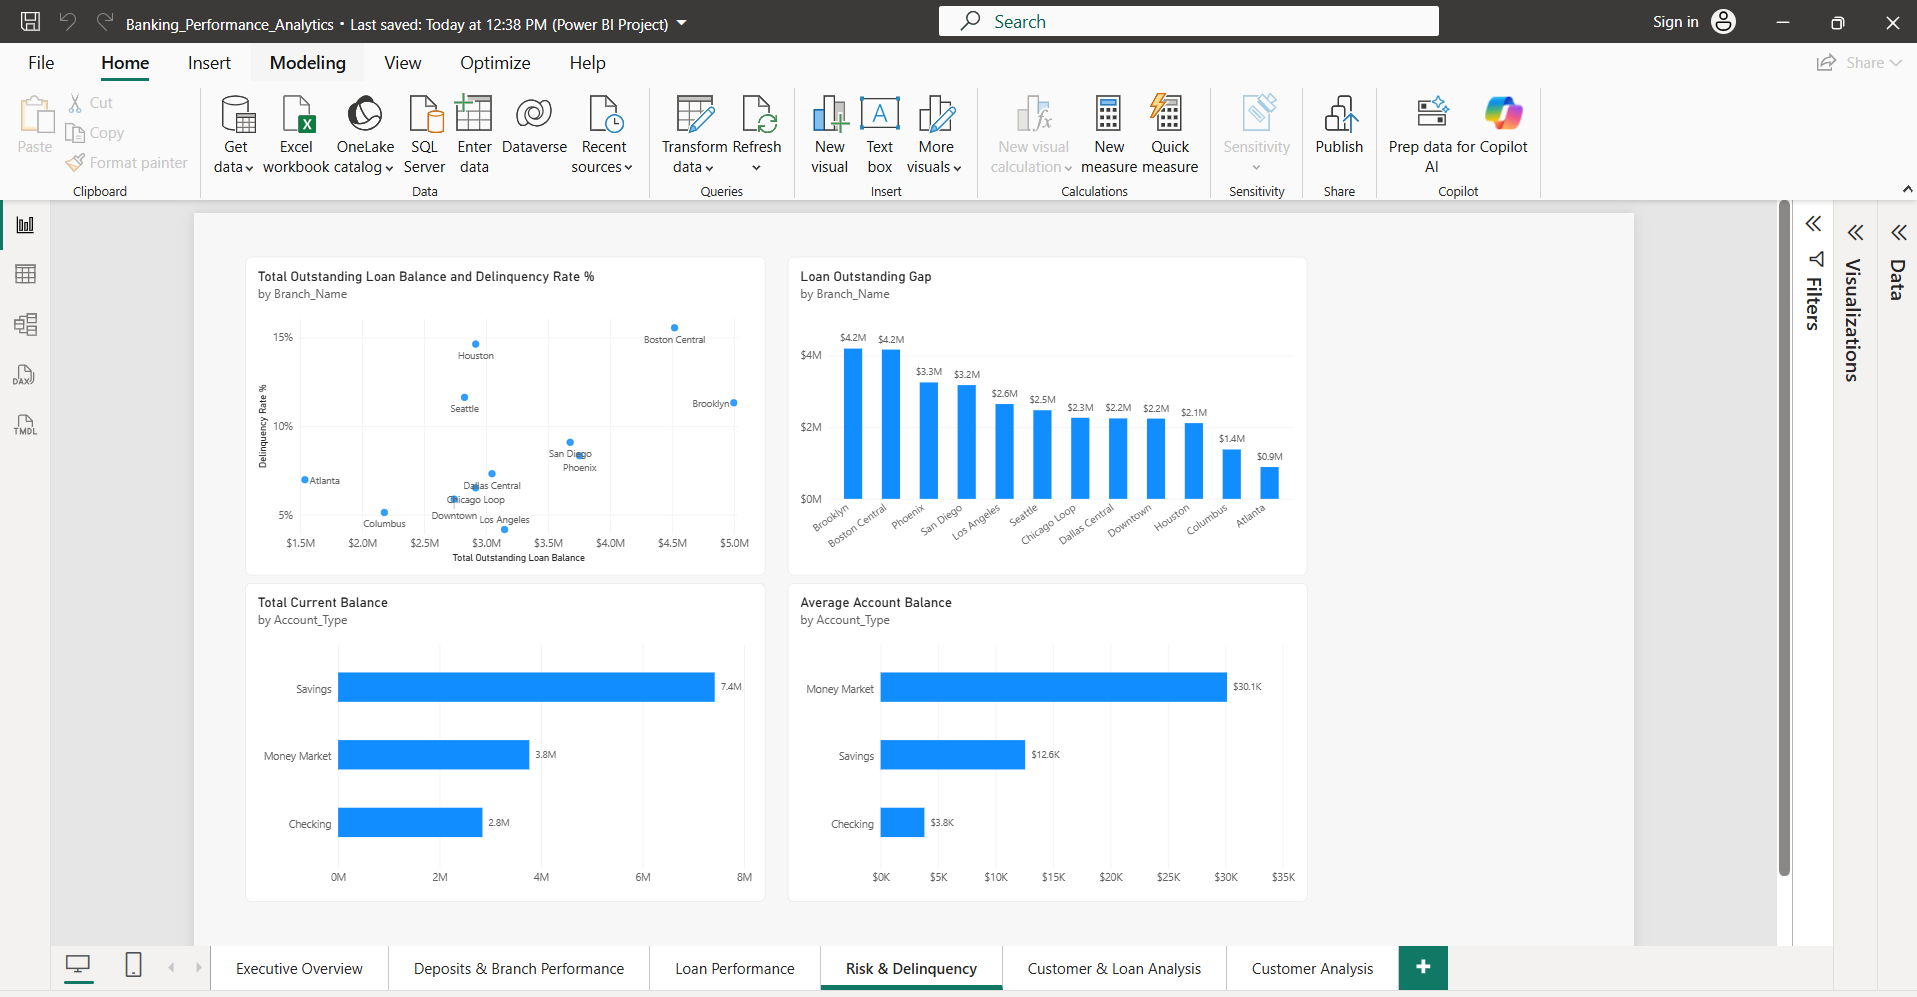

This screenshot's page, from the dashboard's own definition file:
{"tool":"powerbi","page":{"name":"Risk & Delinquency","canvas":[1920,1080],"ordinal":3},"visuals":[{"type":"scatterChart","fields":{"Category":["Branches.Branch_Name"],"X":["Accounts.Total Outstanding Loan Balance"],"Y":["Accounts.Delinquency Rate %"]},"box":[68.3,58.3,693.3,425],"z":0},{"type":"clusteredColumnChart","fields":{"Category":["Branches.Branch_Name"],"Y":["Accounts.Loan Outstanding Gap"]},"box":[791.7,58.3,693,425],"z":1},{"type":"clusteredBarChart","fields":{"Category":["Accounts.Account_Type"],"Y":["Accounts.Total Current Balance"]},"box":[68.3,493.3,693.3,425],"z":2},{"type":"clusteredBarChart","fields":{"Category":["Accounts.Account_Type"],"Y":["Accounts.Average Account Balance"]},"box":[791.7,493.3,693.3,425],"z":3}]}

Visuals, with their boxes on the page's 1920x1080 design canvas (x1, y1, x2, y2). These are canvas units, not pixel positions in the 1917x997 screenshot, which may show the page scaled, cropped or inside an application window:
scatterChart - Branches.Branch_Name x Accounts.Total Outstanding Loan Balance: x1=68 y1=58 x2=762 y2=483
clusteredColumnChart - Branches.Branch_Name x Accounts.Loan Outstanding Gap: x1=792 y1=58 x2=1485 y2=483
clusteredBarChart - Accounts.Account_Type x Accounts.Total Current Balance: x1=68 y1=493 x2=762 y2=918
clusteredBarChart - Accounts.Account_Type x Accounts.Average Account Balance: x1=792 y1=493 x2=1485 y2=918
